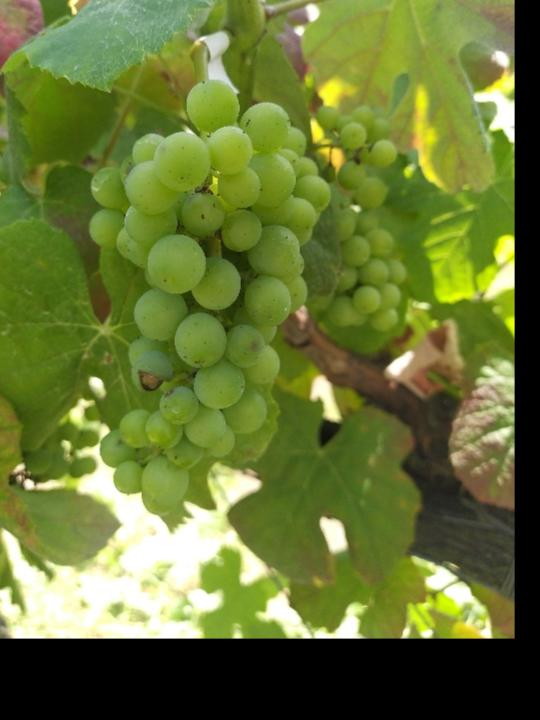grape: (84, 75, 332, 524)
